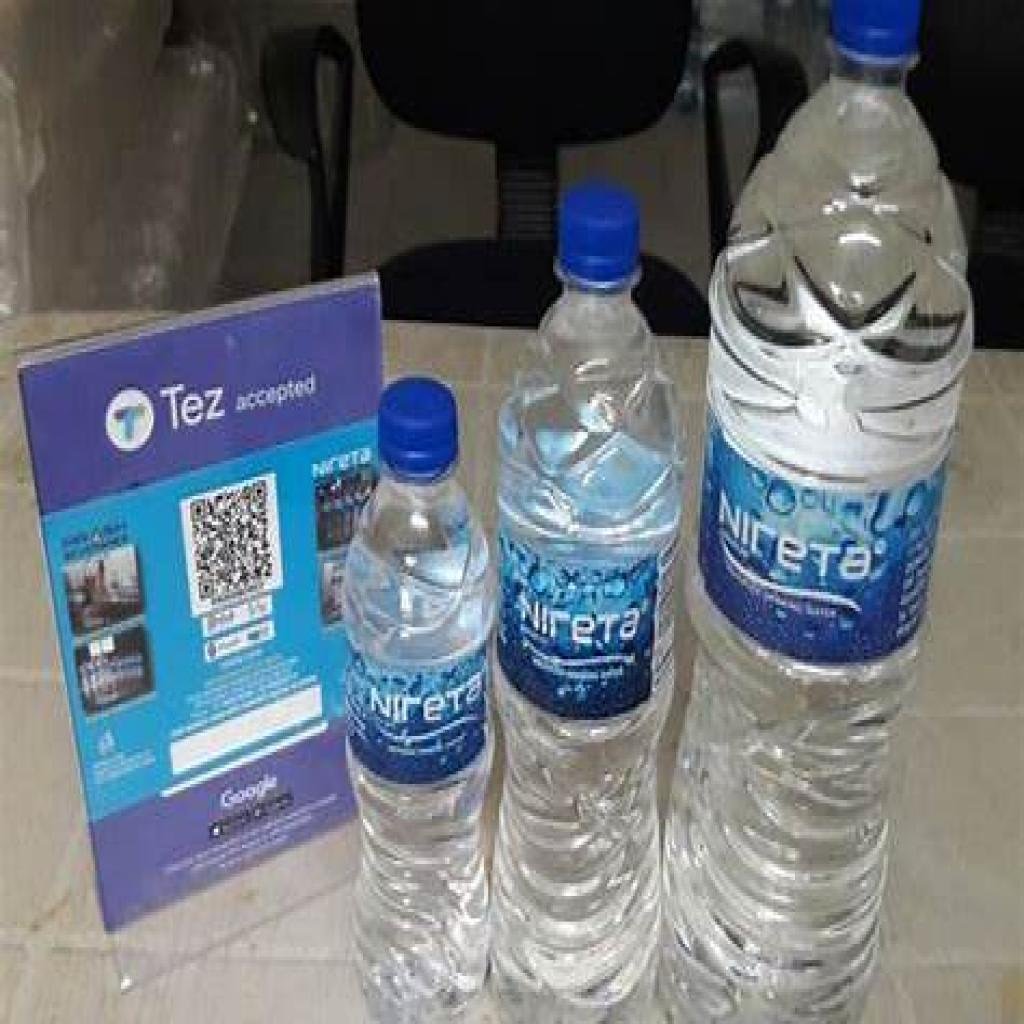organico: (664, 0, 985, 1023), (495, 181, 670, 1023), (335, 371, 505, 1016)
